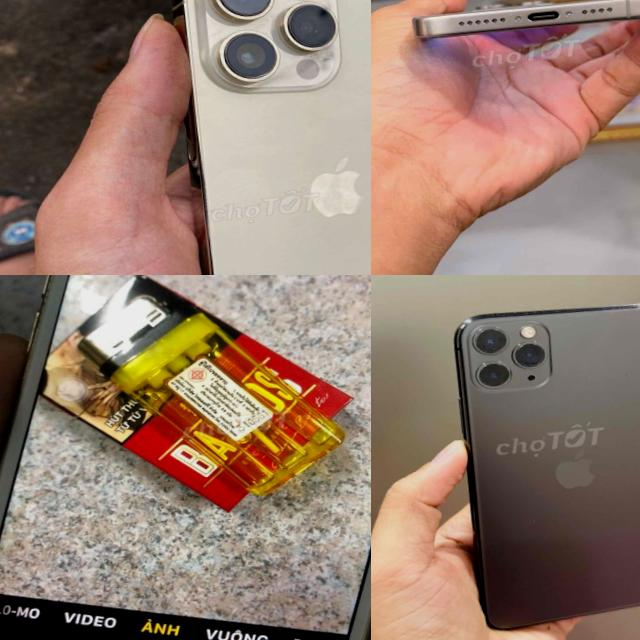scratch: (524, 507, 548, 535), (609, 299, 640, 319)
